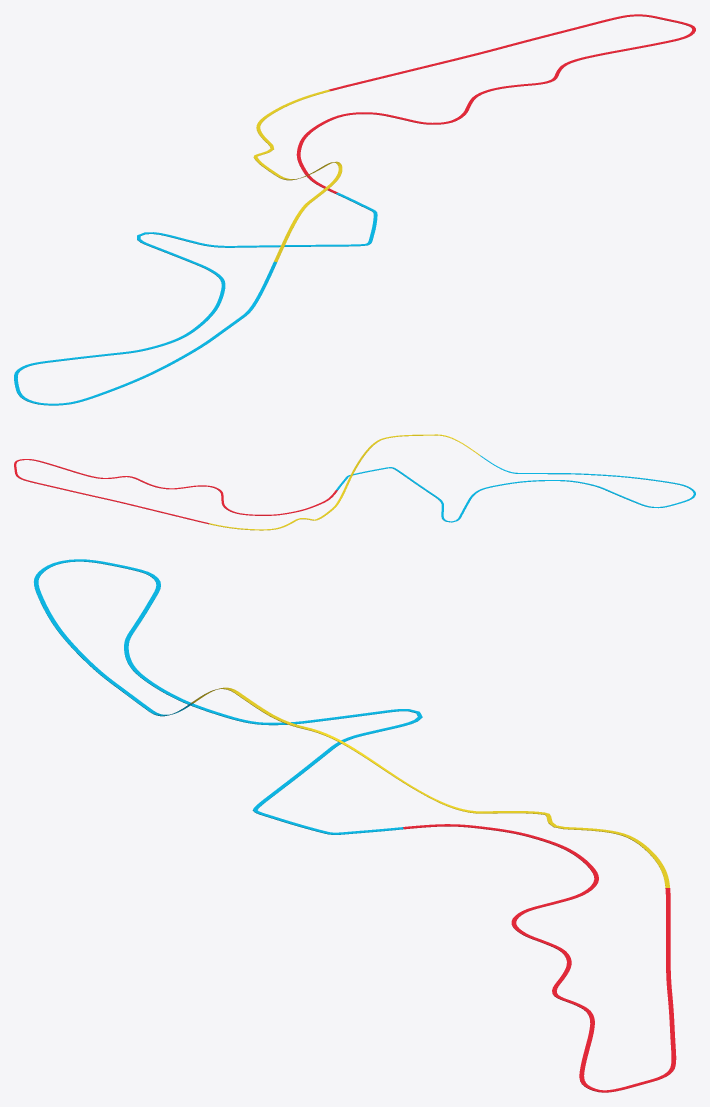
The model's file is SuzukaSectors.glb.
3 renders of one model, top to bottom at view 1: azimuth 30°, elevation 25°; view 2: azimuth 150°, elevation 25°; view 3: azimuth 270°, elevation 25°, orthographic. The views are drawn at different scales.
Visible parts, largest first — view 1: SectorStrip_2, SectorStrip_1, SectorStrip_3; view 2: SectorStrip_2, SectorStrip_1, SectorStrip_3; view 3: SectorStrip_2, SectorStrip_1, SectorStrip_3.
Part boxes in pixels (bbox=[...]): SectorStrip_2: bbox=[14, 192, 377, 405]; SectorStrip_1: bbox=[296, 14, 695, 193]; SectorStrip_3: bbox=[253, 89, 342, 261]; SectorStrip_2: bbox=[336, 455, 695, 522]; SectorStrip_1: bbox=[14, 459, 337, 524]; SectorStrip_3: bbox=[209, 434, 480, 530]; SectorStrip_2: bbox=[34, 559, 422, 834]; SectorStrip_1: bbox=[403, 824, 676, 1092]; SectorStrip_3: bbox=[190, 687, 669, 887].
Bounding box in the file's own units: 16.06 × 1.11 × 8.18.
